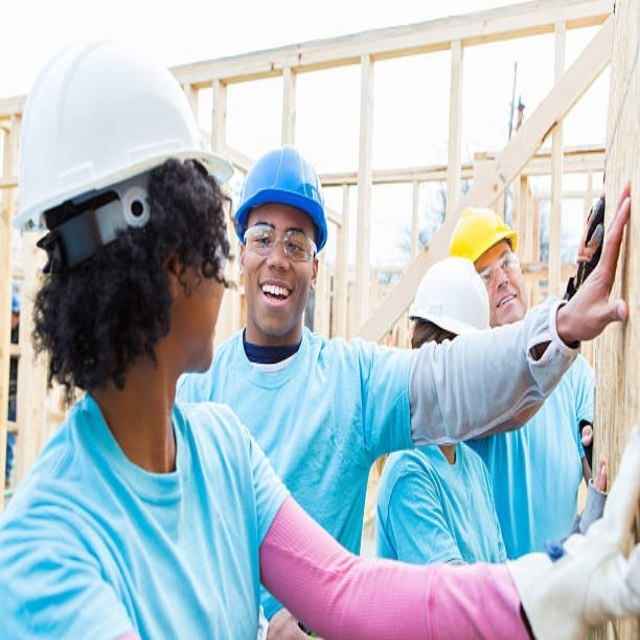Gafas: (242, 221, 319, 262), (483, 246, 523, 281)
Sin_guantes: (556, 182, 633, 336)
Sin_mascara: (255, 271, 292, 325), (490, 287, 523, 322)
